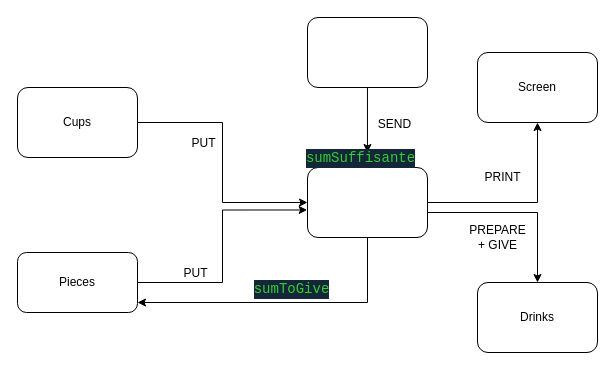
Image size: 615x370. Some labels were removed from this diagram. The centre of each missing label's shape, as x and y in pixels:
Choice: [367,52]
Controller: [367,202]
